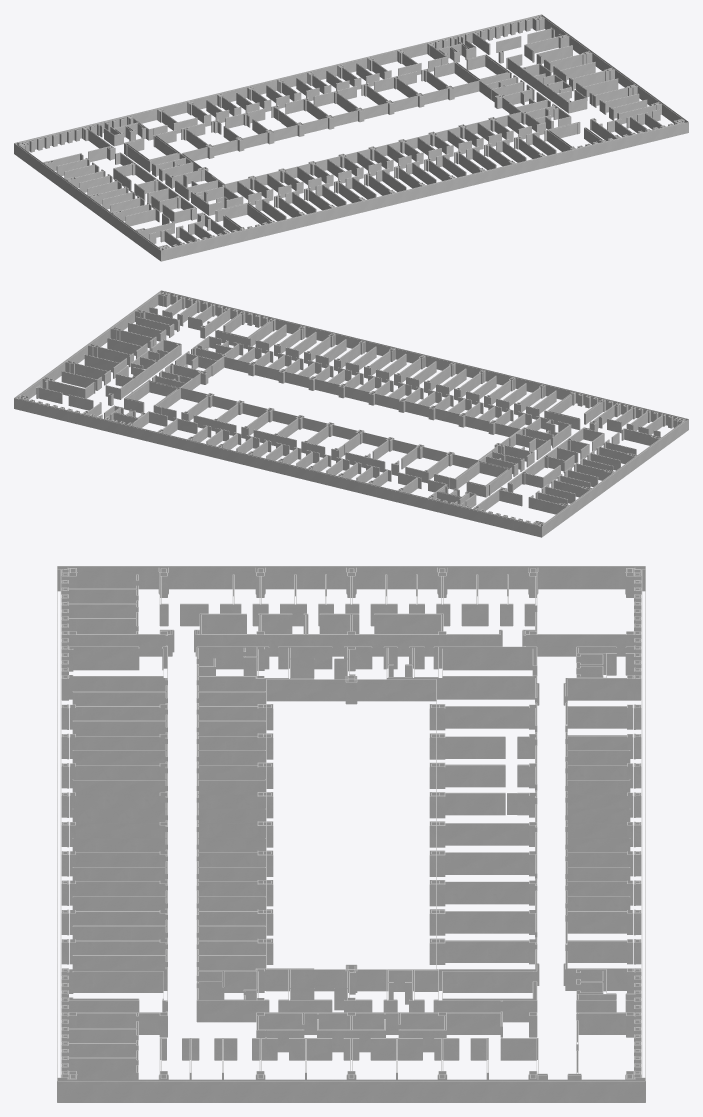
Rendered from povo.dae.
The picture shows the model from 3 angles, top to bottom: view 1: azimuth 30°, elevation 25°; view 2: azimuth 150°, elevation 25°; view 3: azimuth 270°, elevation 25°; orthographic projection. The views are drawn at different scales.
Visible parts, largest first — view 1: walls; view 2: walls; view 3: walls.
Part boxes in pixels (x1=…): walls: x1=14, y1=14, x2=688, y2=261; walls: x1=14, y1=290, x2=688, y2=537; walls: x1=57, y1=566, x2=645, y2=1102.
Bounding box in the file's own units: 102 × 49.25 × 2.
1 material, 1 textured.
